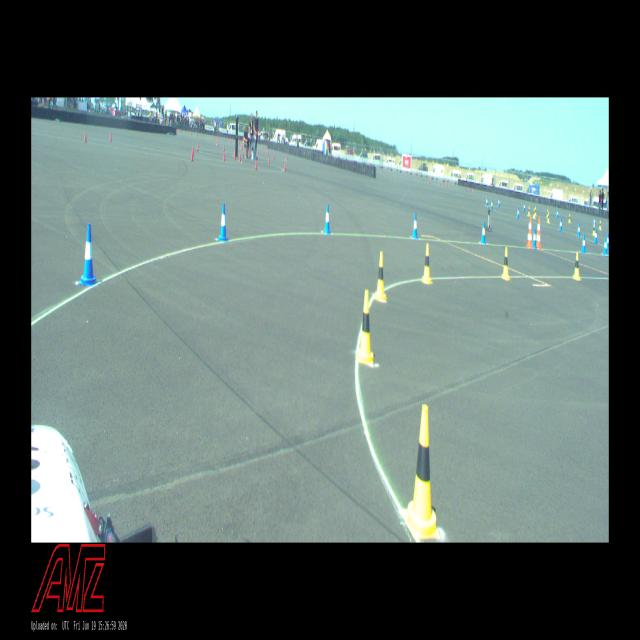blue_cone: (79, 223, 97, 286), (218, 202, 228, 242), (324, 204, 331, 234), (412, 214, 418, 239), (481, 222, 486, 243), (604, 237, 608, 255), (582, 235, 586, 252), (533, 228, 536, 248), (594, 229, 598, 243), (606, 234, 608, 249), (578, 224, 580, 237), (560, 218, 562, 231), (517, 208, 519, 218), (491, 200, 493, 210), (486, 197, 488, 206)
large_orange_cone: (526, 215, 532, 248), (536, 217, 541, 249)
unknown_cone: (191, 150, 194, 162), (110, 132, 112, 142), (255, 160, 257, 170), (85, 132, 86, 143)
yellow_cone: (404, 406, 440, 538), (358, 291, 373, 364), (375, 252, 386, 301), (422, 244, 431, 283), (502, 247, 509, 280), (573, 252, 580, 280), (547, 212, 550, 223), (593, 224, 595, 235), (599, 220, 601, 230), (533, 208, 535, 218), (533, 209, 535, 218), (528, 206, 530, 215), (534, 207, 536, 216), (546, 209, 548, 218), (568, 213, 570, 222)
